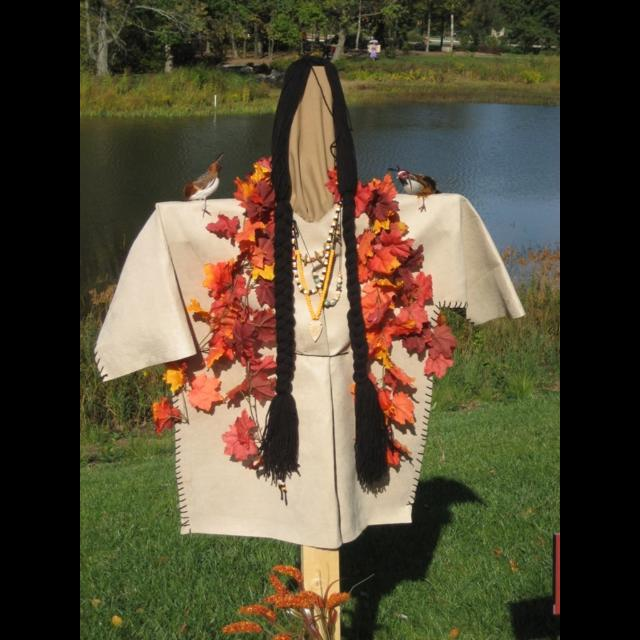Flower: (206, 402, 270, 483)
